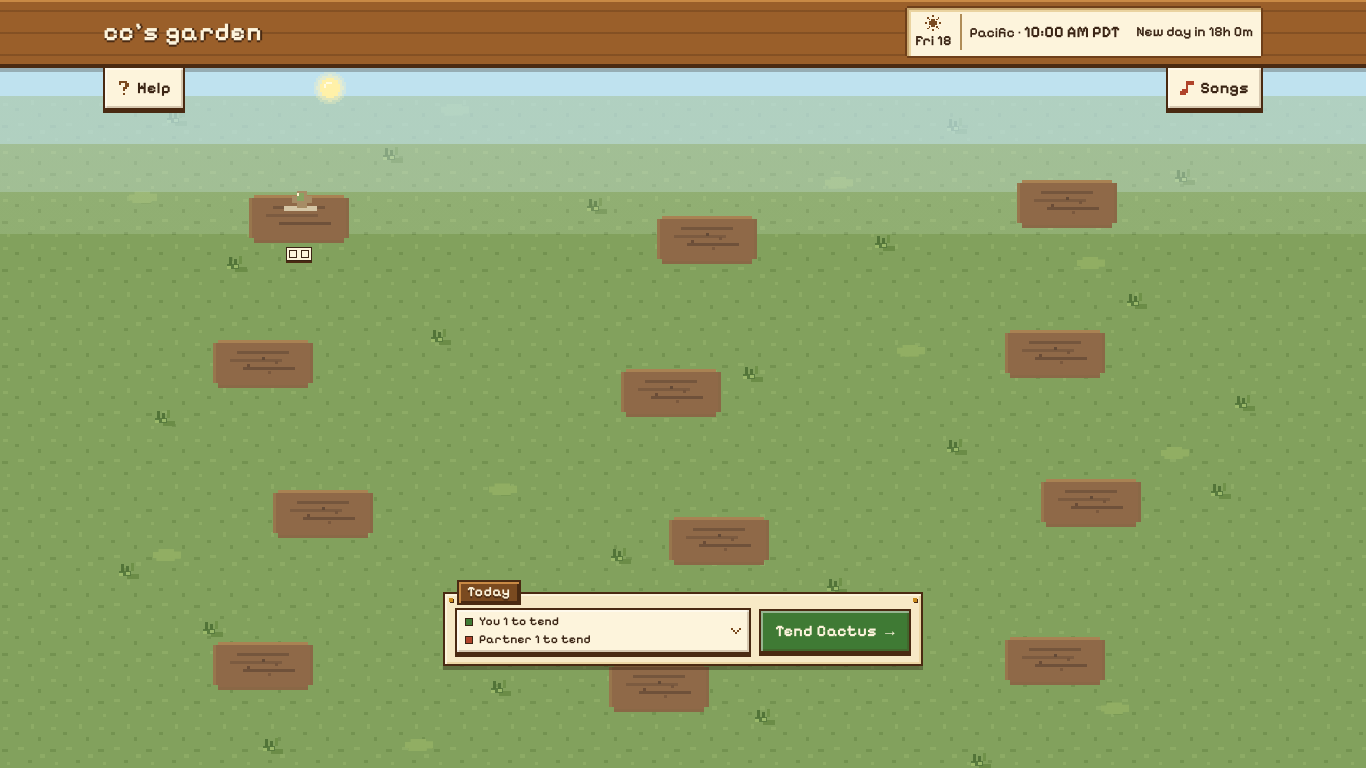
goes straight from planting to the new flower's first care in the same sheet
Click the button named "Plant in spot 9": (1091, 479) [1034,414,1148,544]
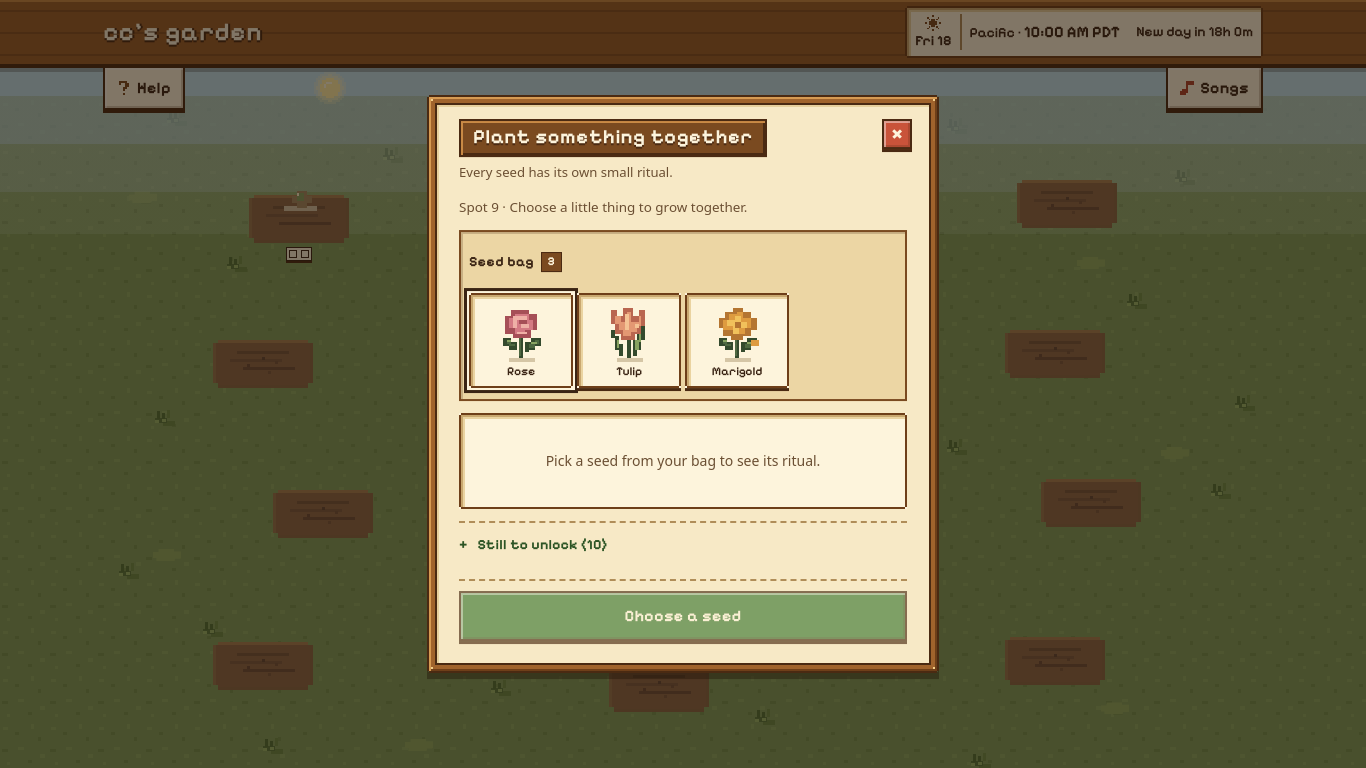
Click the button "Rose": (521, 340) [469,293,573,388]
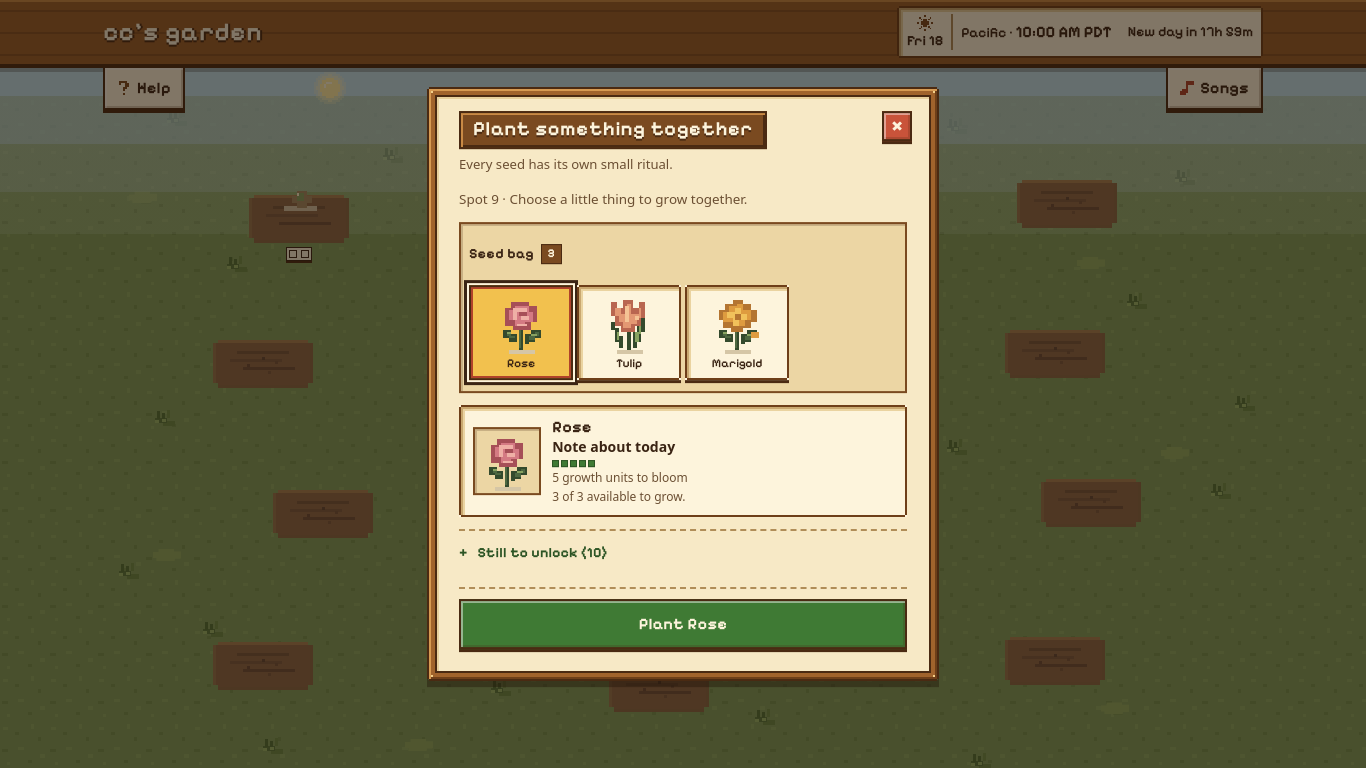
Click the button "Plant Rose": (683, 624) [459,599,907,649]
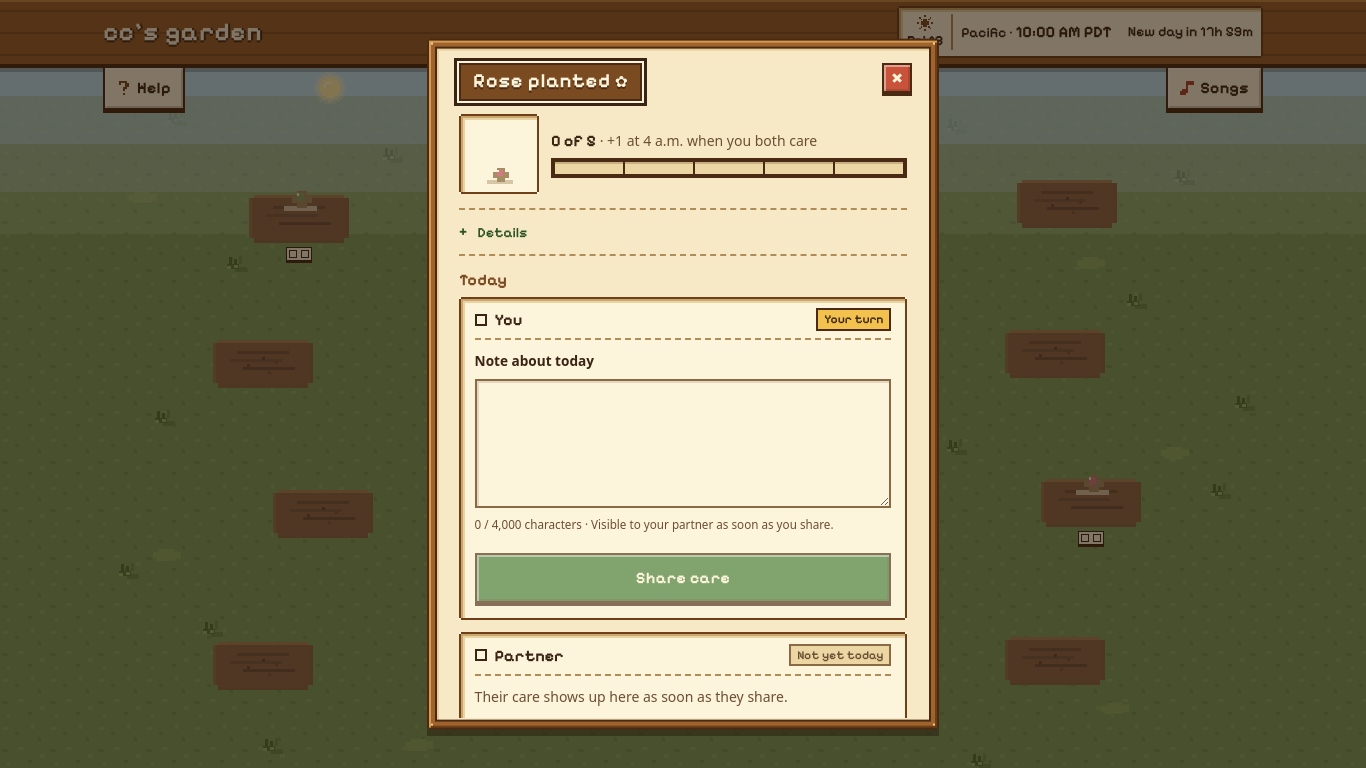
Expected: the heading "Rose planted ✿" is shown, [459,62,642,100]
Expected: the text box labelled "Note about today" is shown, [475,379,891,508]
Expected: the button "Share care" is shown, [475,552,891,603]
# Closing and reopening shows the flower's ordinary sheet.
Click the button named "Close": (897, 78) [875,56,919,100]
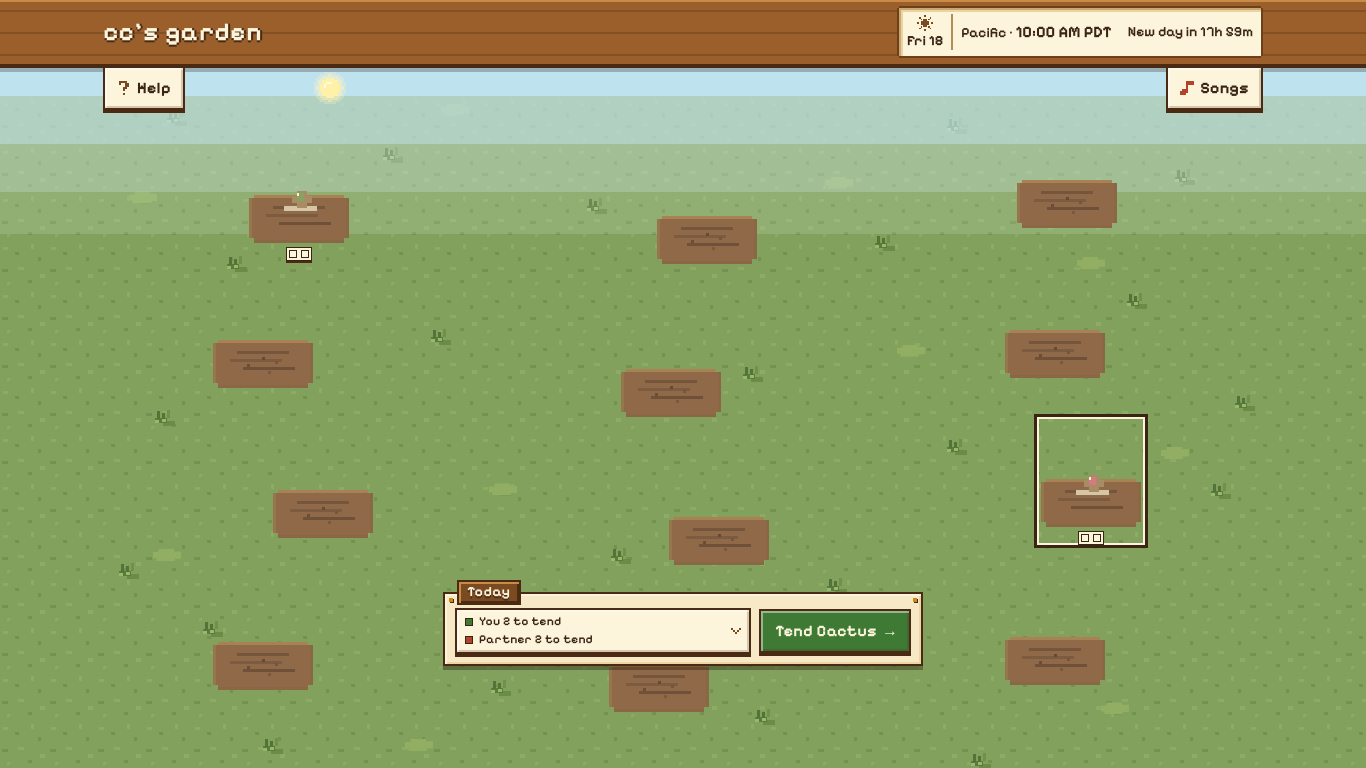
Click the button named "Rose, spot 9": (1091, 481) [1034,414,1148,548]
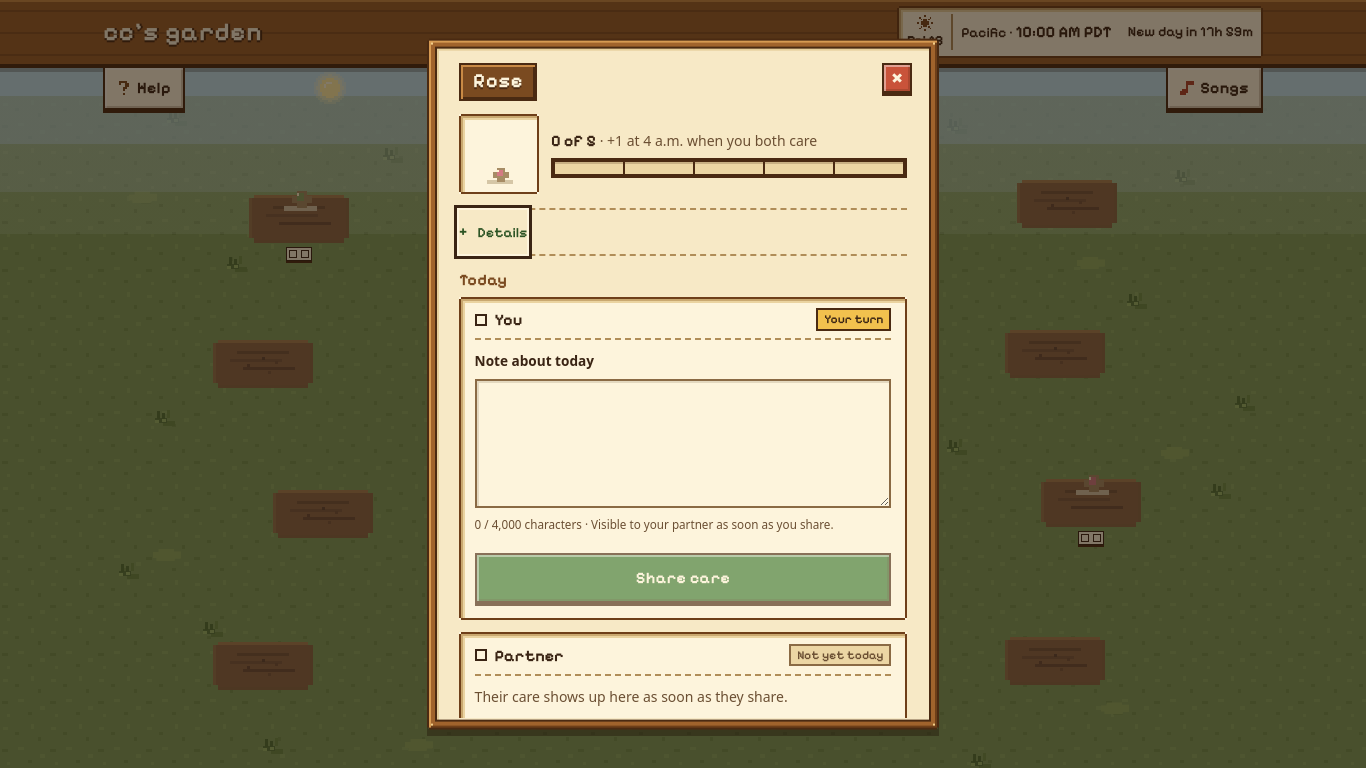
Expected: the dialog "Rose" is shown, [427,38,939,730]
